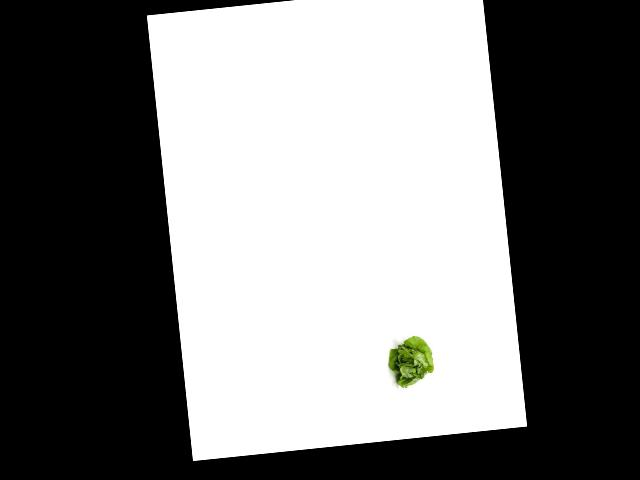lettuce: (383, 333, 439, 390)
